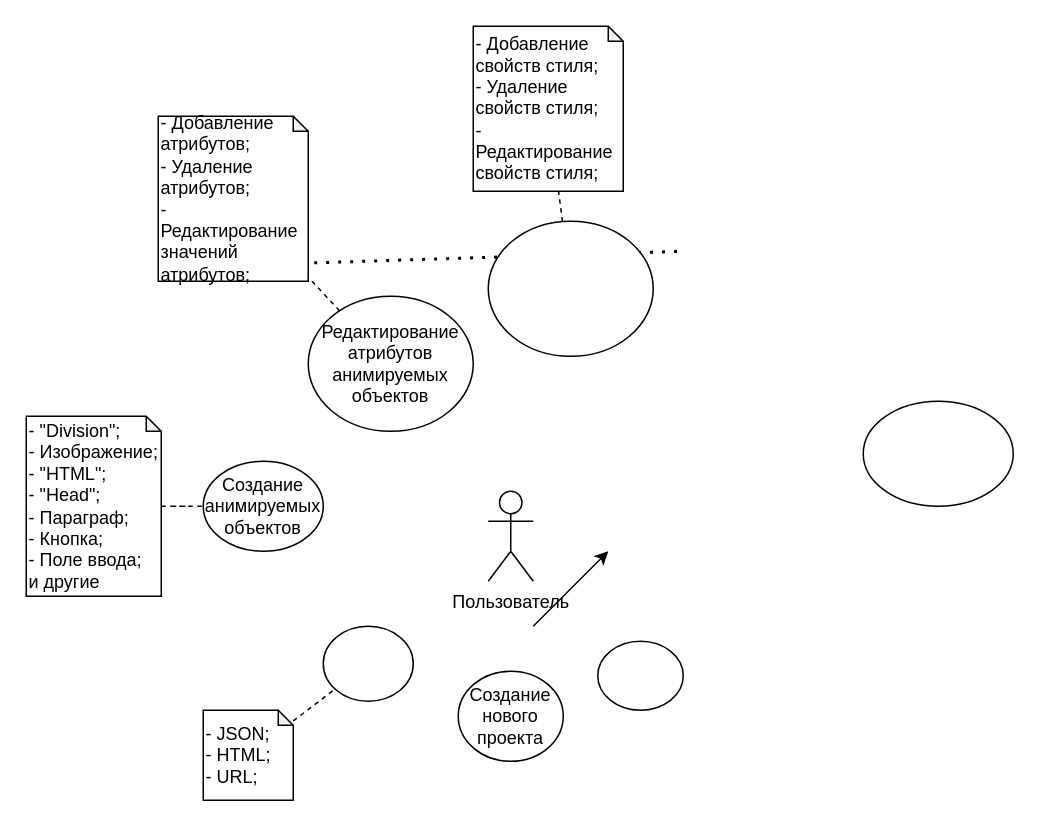
Some shapes in this 1040 by 827 pixel diagram are drawn without their labels. The shapes that lost their labels are listed below. From the top down, each one's box as (x1, y1, x2, y2) in pixels, then its label:
(487, 220, 653, 356): Редактирование стиля анимируемых объектов
(862, 400, 1013, 506): Редактирование анимации
(322, 625, 413, 701): Экспорт проекта
(596, 640, 683, 710): Импорт проекта
